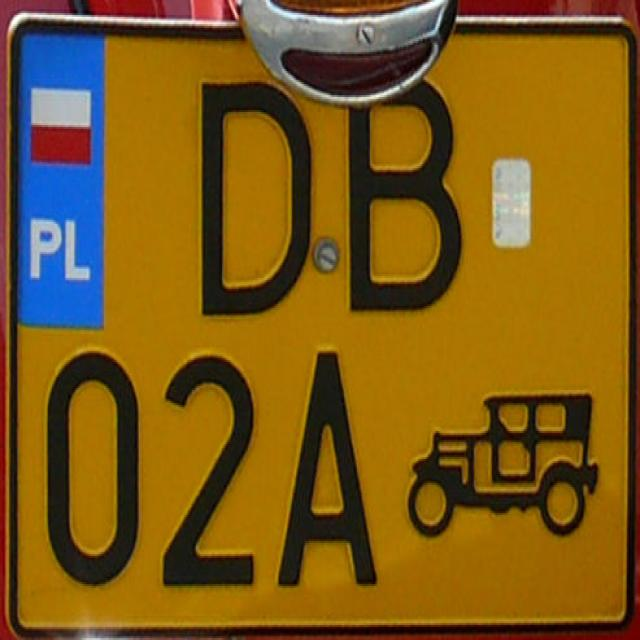pl_license_plate: (13, 22, 627, 624)
